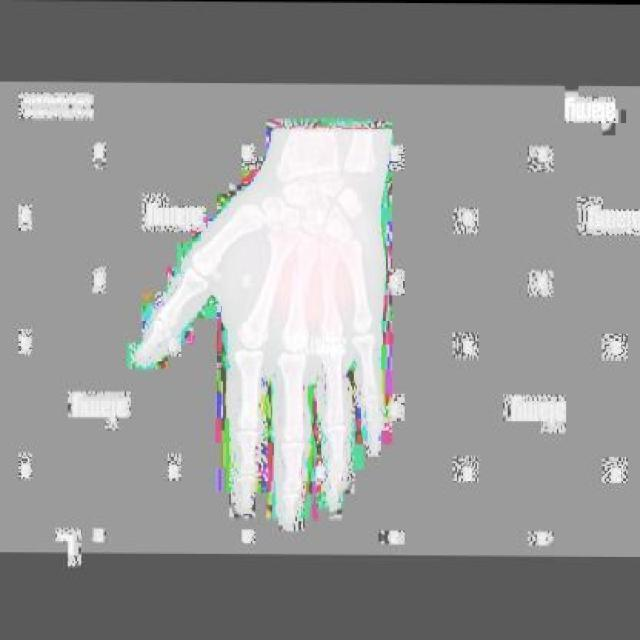Fracture: (289, 268, 322, 308), (319, 270, 345, 310)
